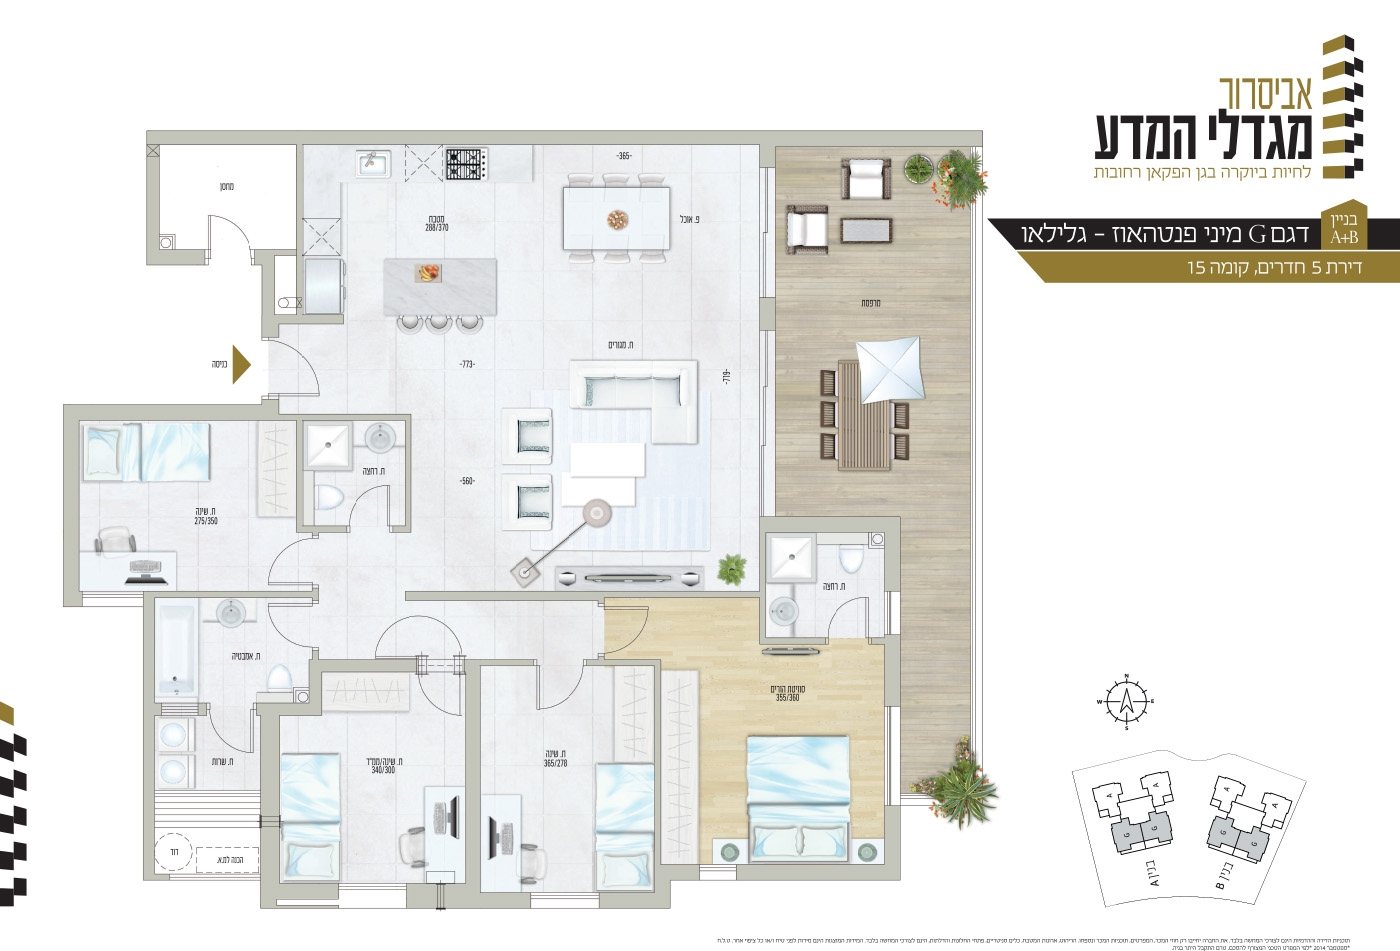door: (284, 335, 333, 403), (528, 670, 590, 716), (197, 203, 259, 247), (613, 602, 664, 654), (253, 537, 301, 590), (413, 682, 465, 728), (256, 598, 301, 649), (204, 721, 261, 757), (823, 593, 877, 632), (352, 480, 400, 515)
wall: (145, 131, 982, 145), (258, 706, 282, 909), (465, 658, 480, 907), (62, 422, 77, 612), (64, 405, 277, 418), (255, 250, 275, 341)
window: (339, 885, 403, 927), (530, 895, 600, 916), (887, 709, 901, 805), (882, 590, 900, 638), (81, 590, 136, 605), (701, 866, 736, 886)
